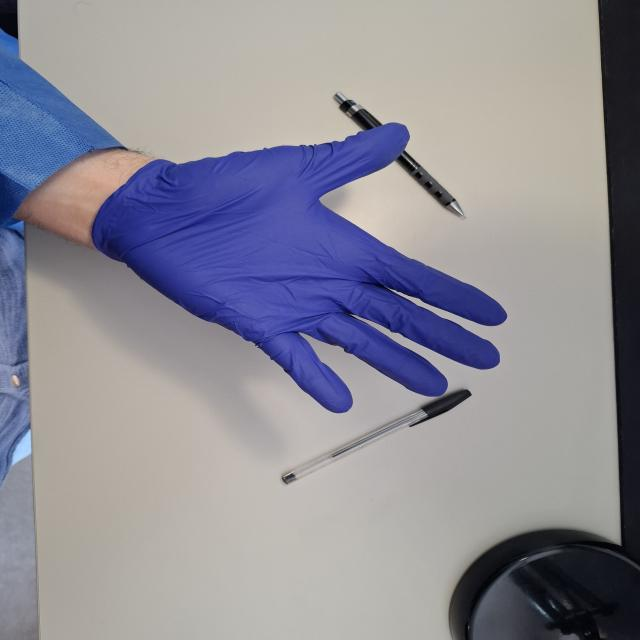glove_on: (94, 119, 515, 417)
